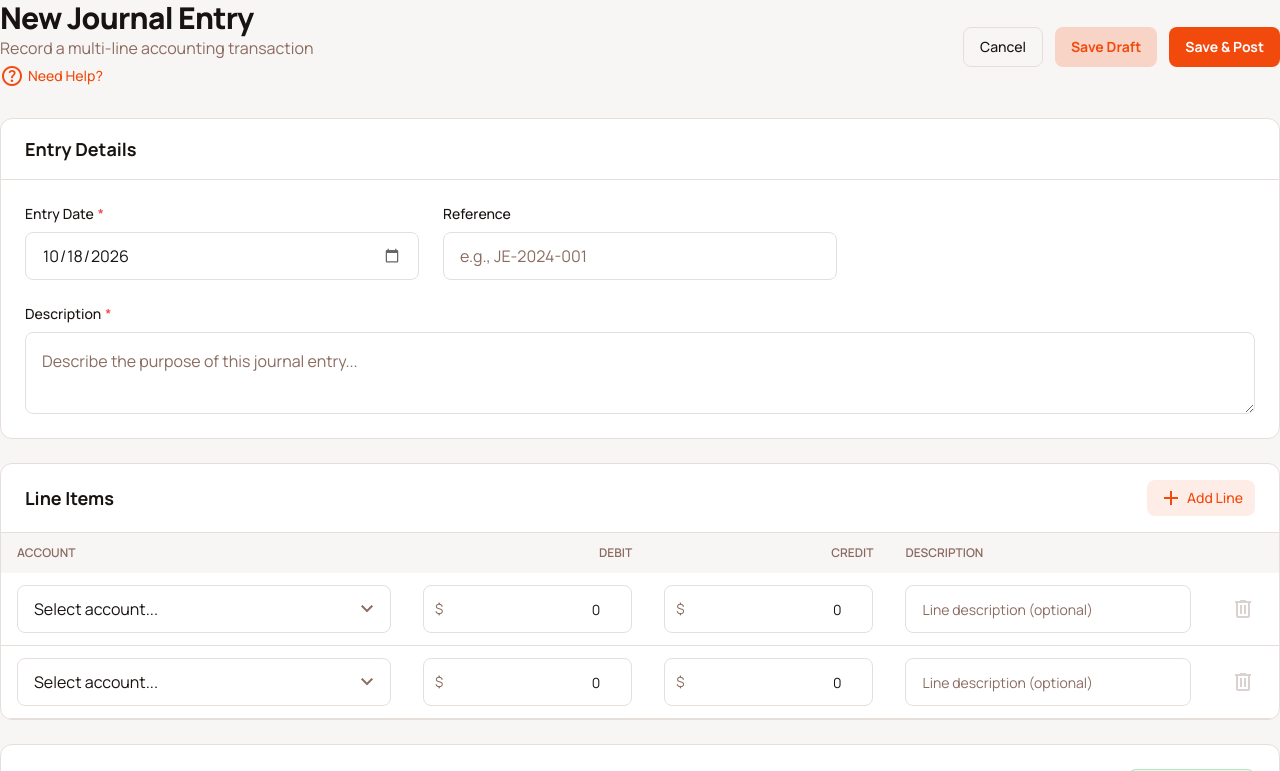
Test: JournalEntryPage validation › rejects a line that carries both a debit and a credit
The width and height of the screenshot is (1280, 771).
Type "Bad line" into the text box with test id "journal-entry-description-input" at {"x": 640, "y": 373}, box x1=25 y1=332 x2=1255 y2=414
Select "5200 - Rent Expense" in the dropdown with test id "journal-entry-line-0-account" at {"x": 204, "y": 609}, box x1=17 y1=585 x2=391 y2=633
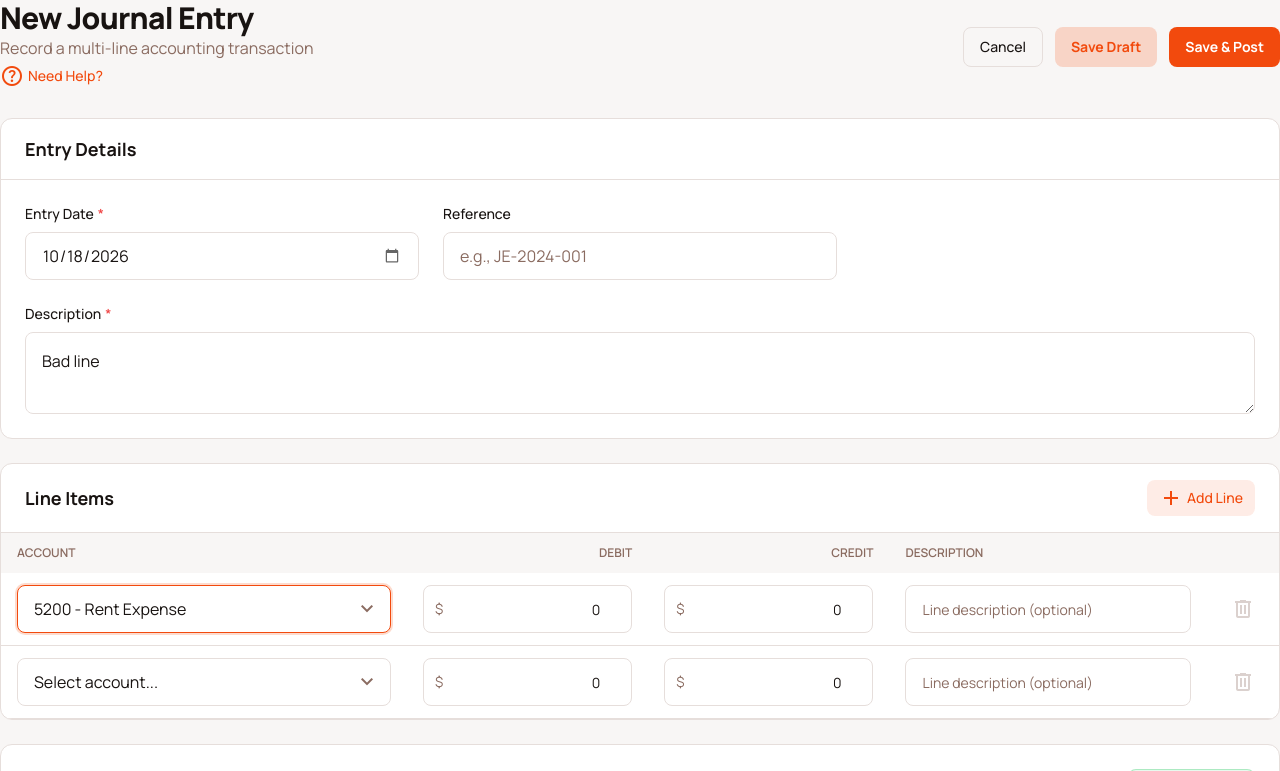
Replace the text in the number field with test id "journal-entry-line-0-debit" with "50" at {"x": 528, "y": 609}, box x1=423 y1=585 x2=632 y2=633
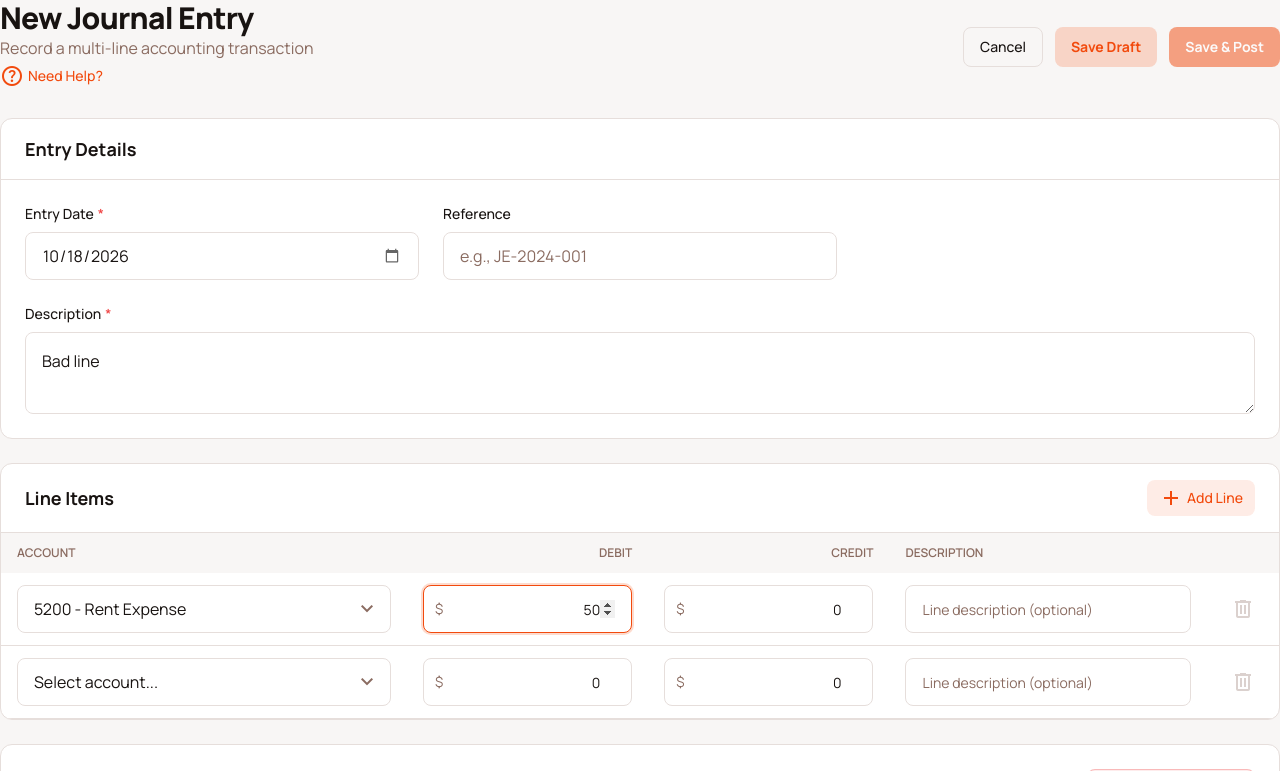
Replace the text in the number field named "Line 1 credit amount" with "50" at {"x": 769, "y": 609}, box x1=664 y1=585 x2=874 y2=633
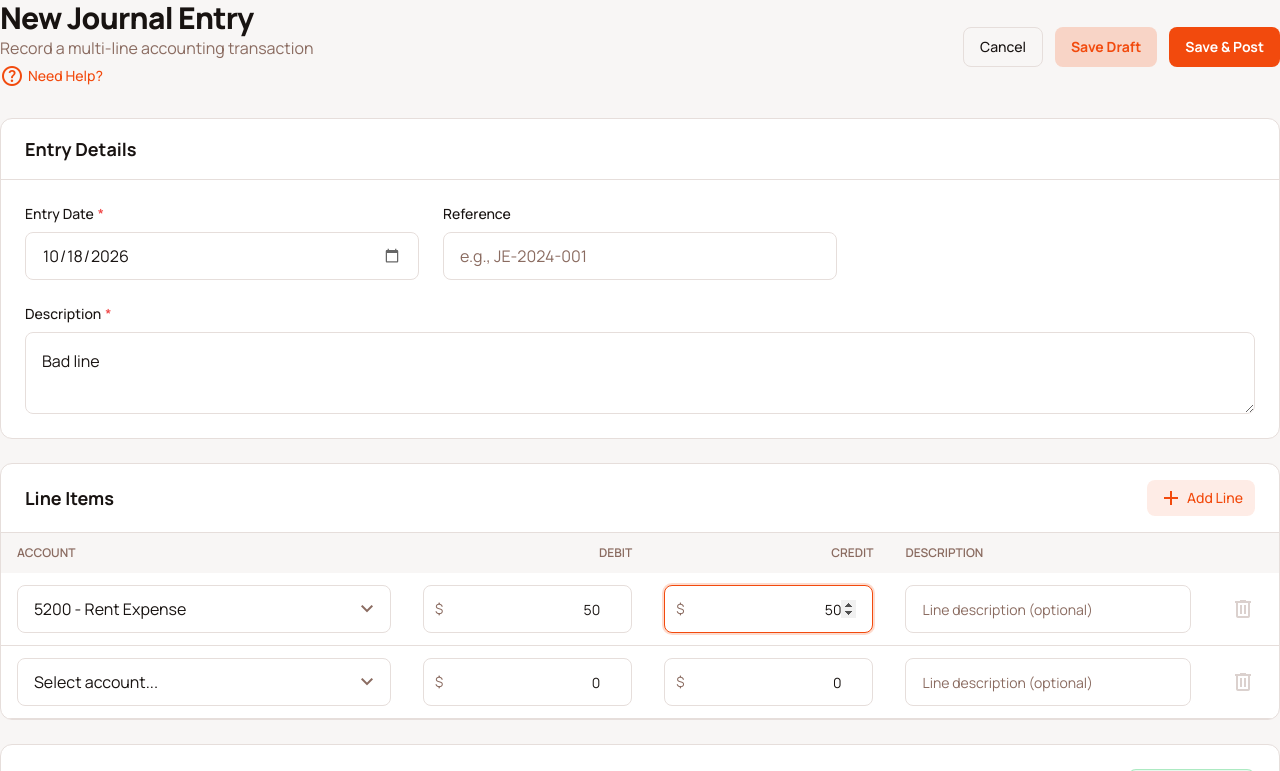
Select "1001 - Cash" in the dropdown with test id "journal-entry-line-1-account" at {"x": 204, "y": 682}, box x1=17 y1=658 x2=391 y2=706
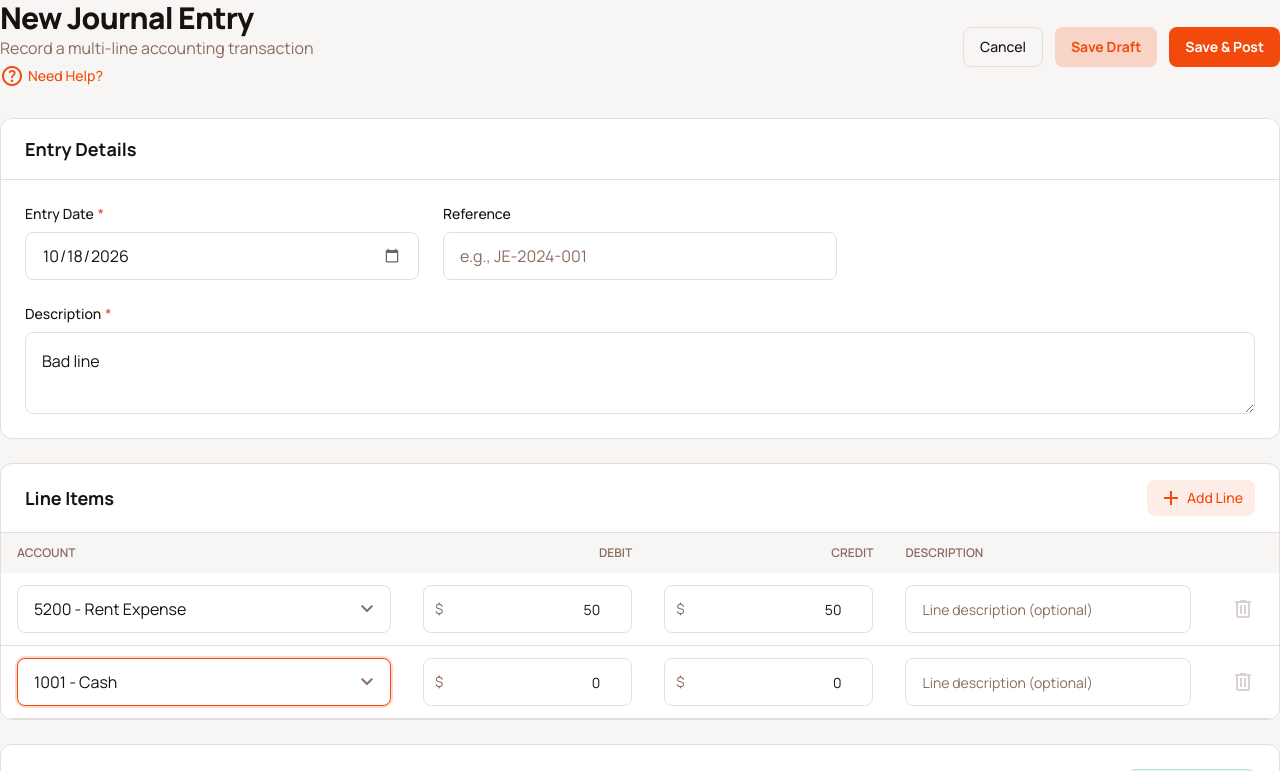
Replace the text in the number field named "Line 2 credit amount" with "50" at {"x": 769, "y": 682}, box x1=664 y1=658 x2=874 y2=706
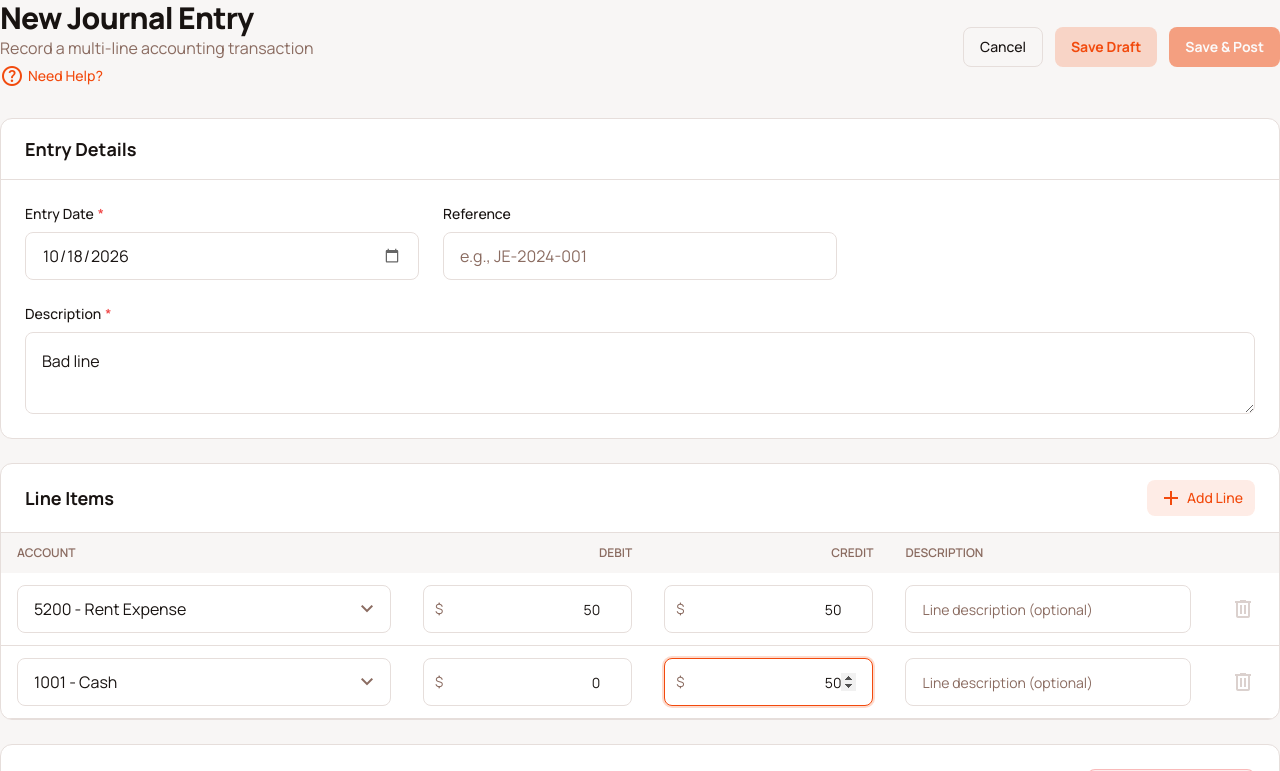
Click the button with test id "journal-entry-save-draft-button" at {"x": 1106, "y": 47}, box x1=1055 y1=27 x2=1157 y2=67
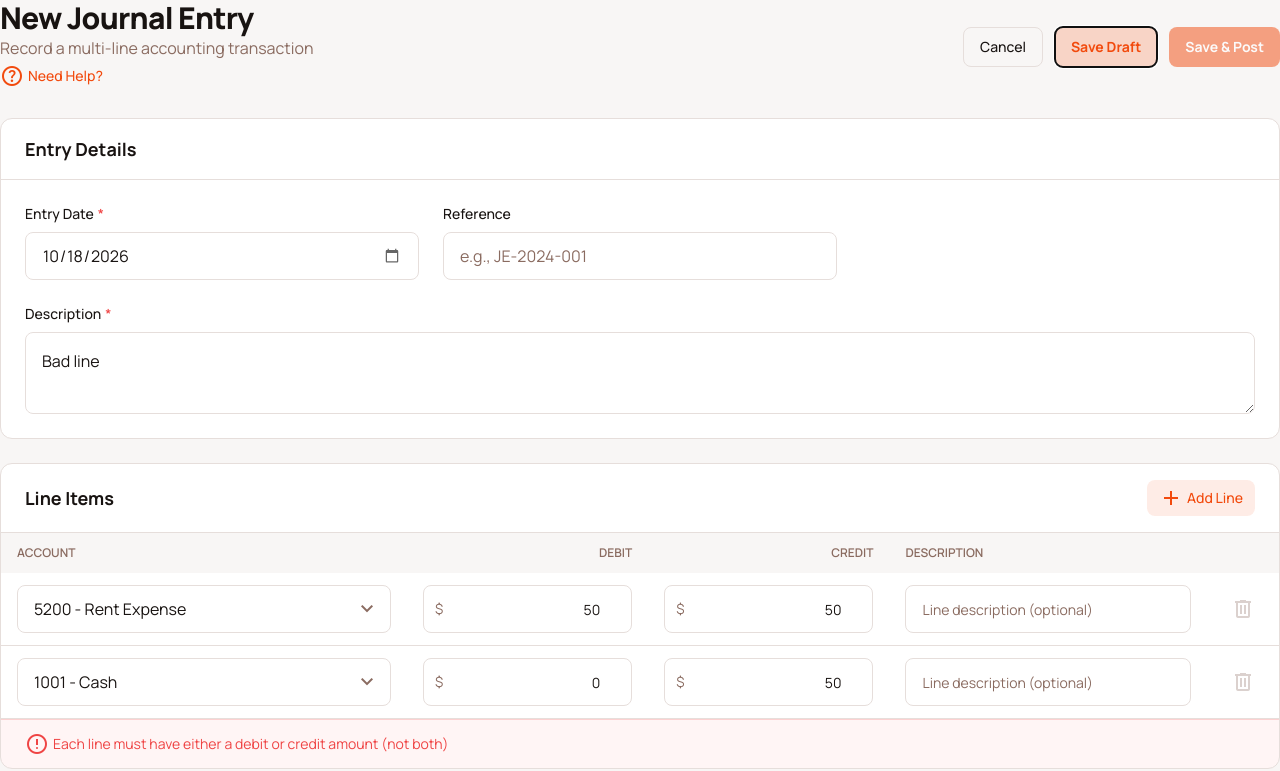
Result: the text "Each line must have either a debit or credit amount (not both)" is shown at x1=25 y1=730 x2=448 y2=758
